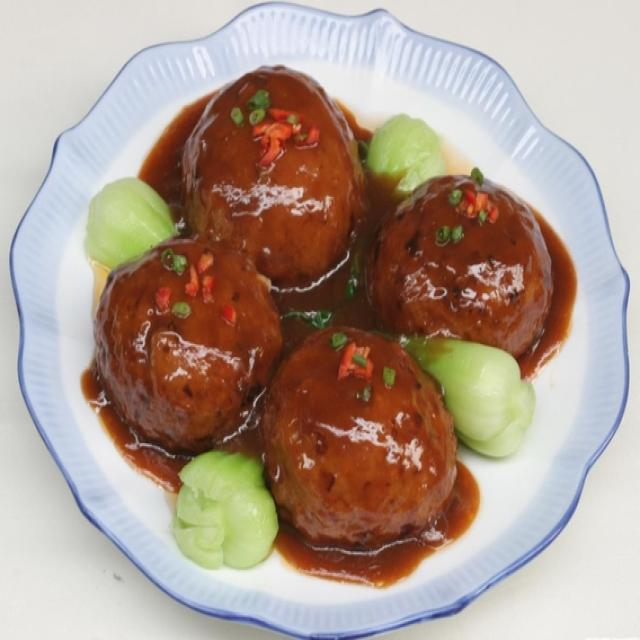猪肉菜式: (34, 18, 612, 621)
